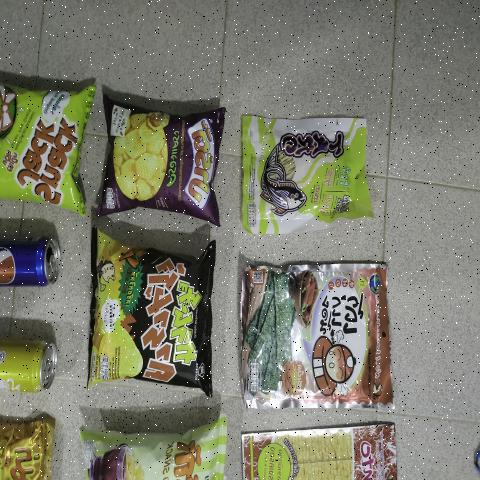karamujo: (94, 255, 216, 386)
party_purple: (102, 114, 217, 220)
taokaenoi: (244, 260, 388, 405)
taro_yellow: (248, 120, 366, 228)
